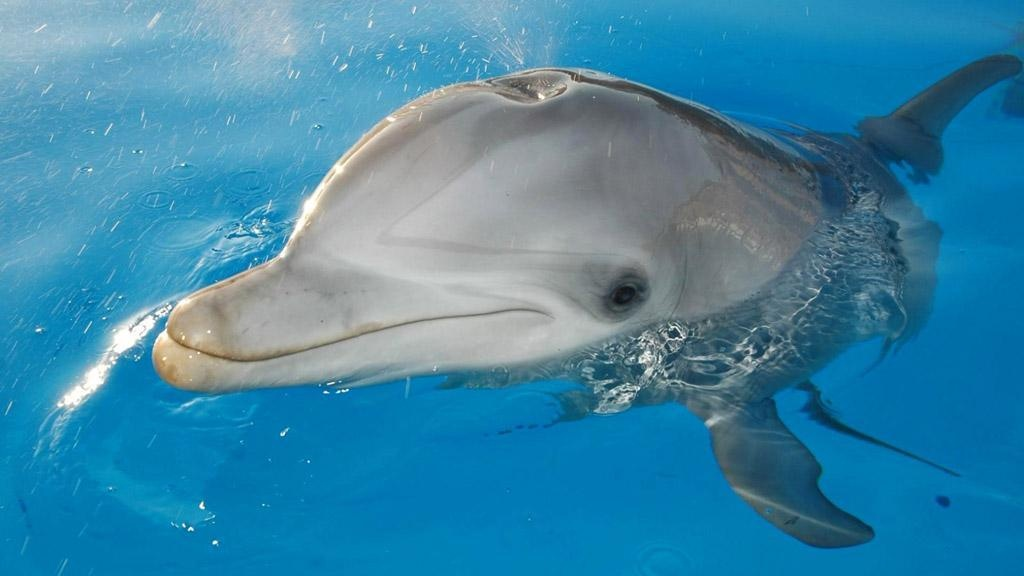fish: (151, 53, 1024, 551)
